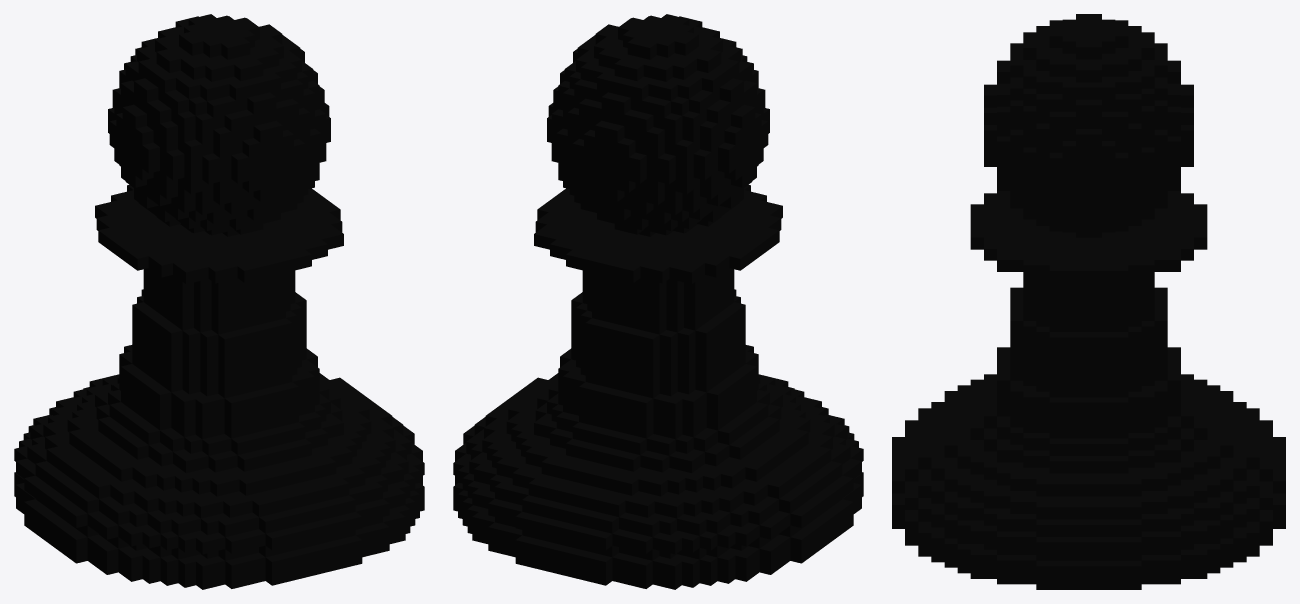
File: blackpawn.obj
3 renders of one model, left to right at view 1: azimuth 30°, elevation 25°; view 2: azimuth 150°, elevation 25°; view 3: azimuth 270°, elevation 25°, orthographic.
Size of the model in its own units: 3 by 4 by 3.
1 material, 1 textured.
